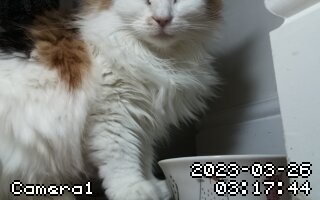clara: (4, 3, 231, 199)
